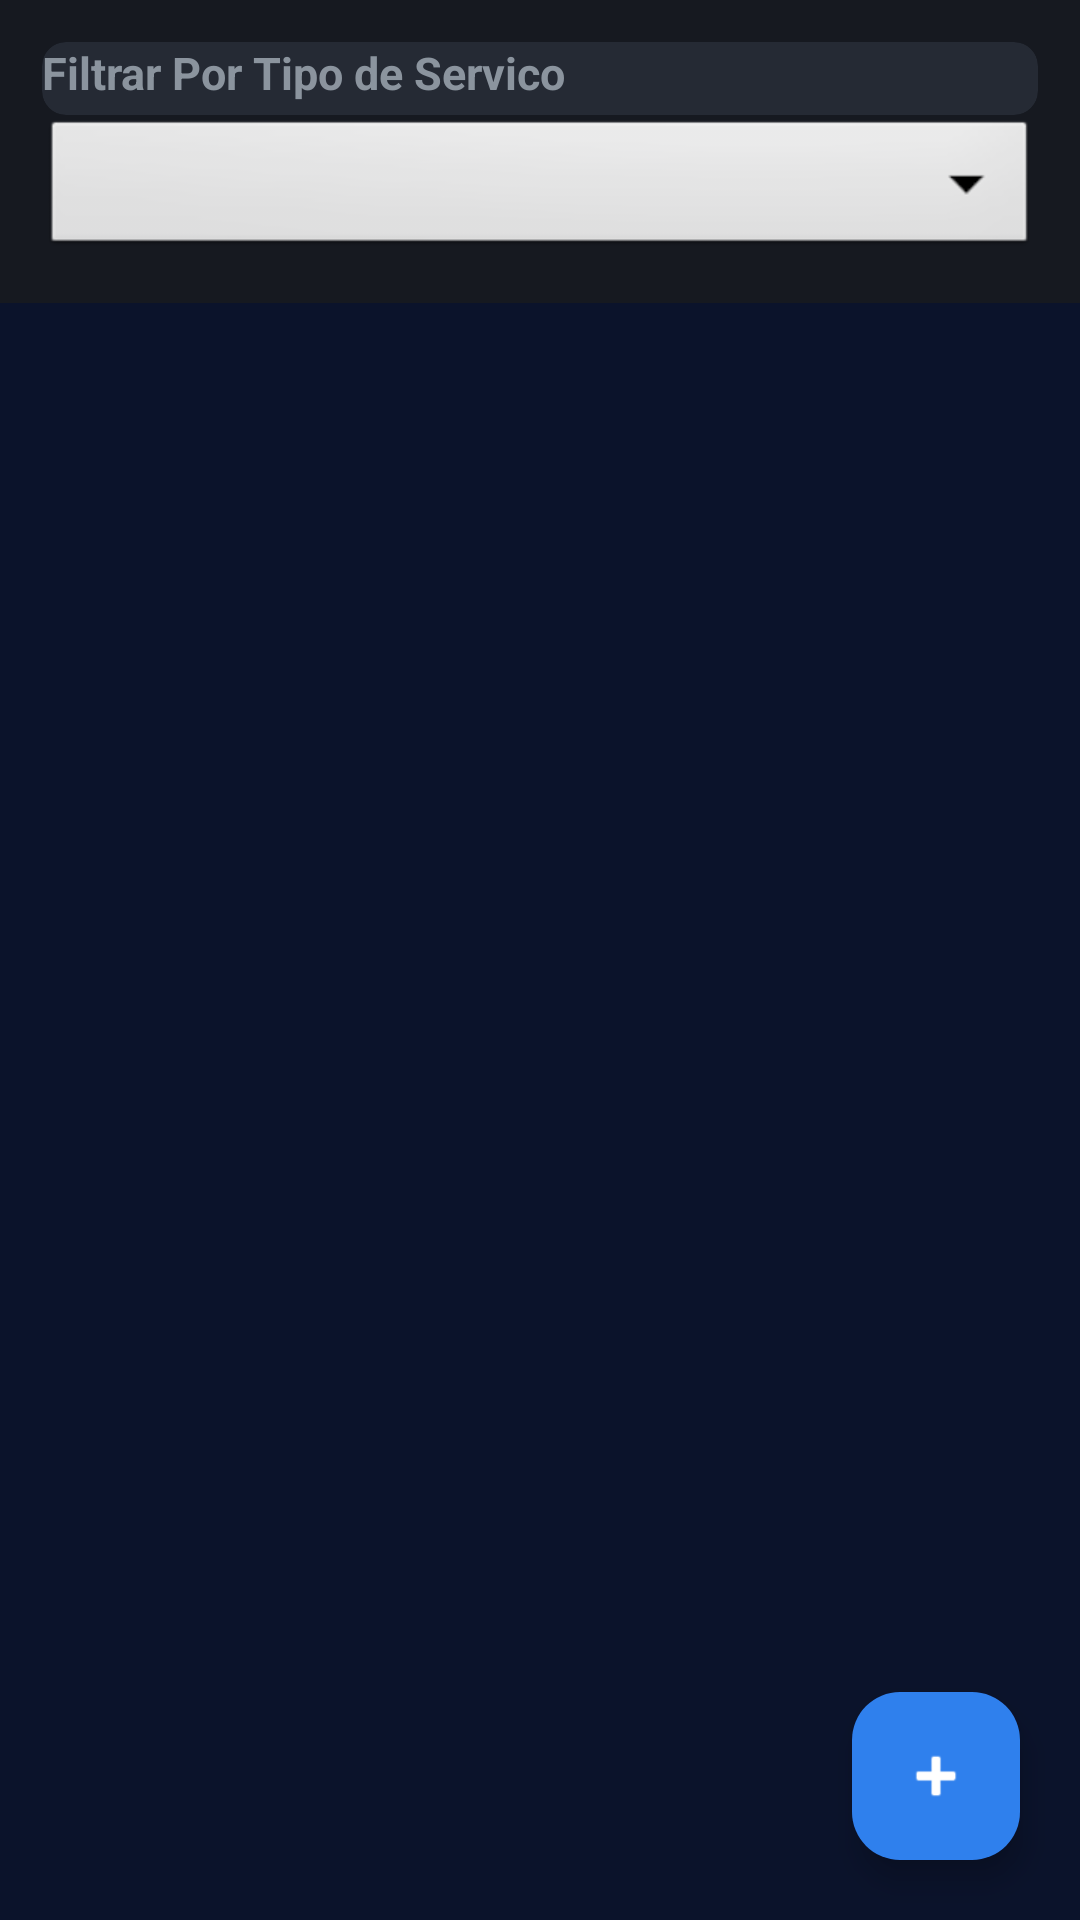

Icons on this 1080px×1920px Android screen, each with the point to tap as (x,y):
Nuevo Servicio: (936,1776)
